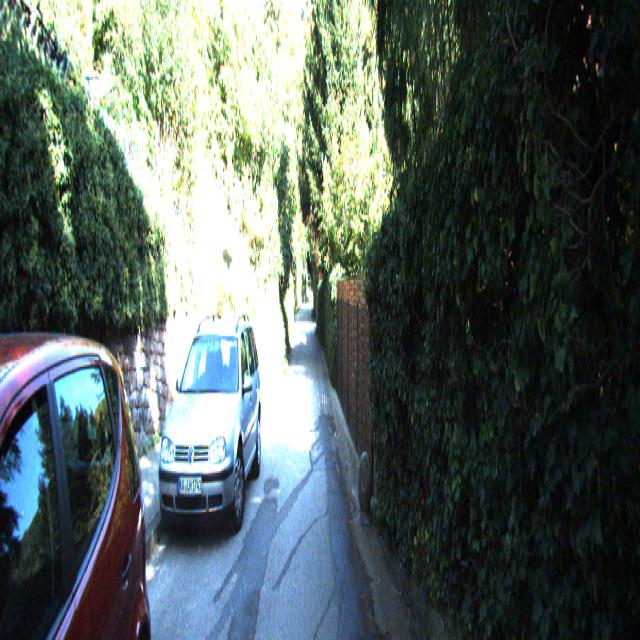Car: (0, 308, 162, 639), (156, 309, 263, 561)
